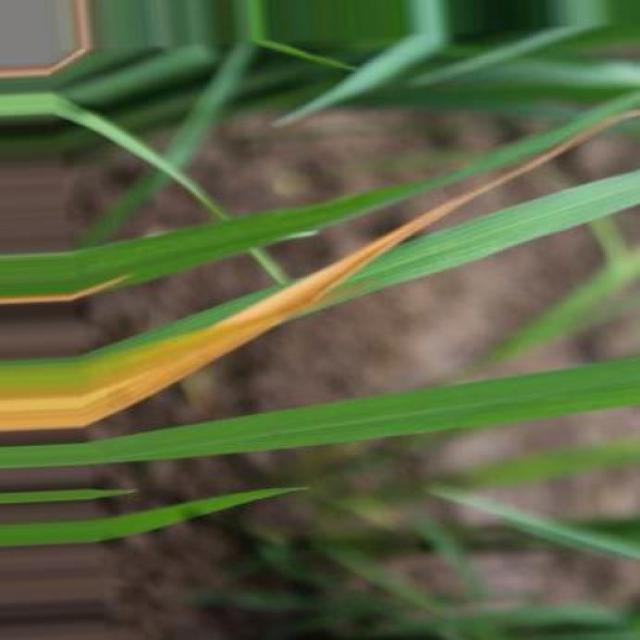Rice Tungro: (2, 142, 569, 429)
